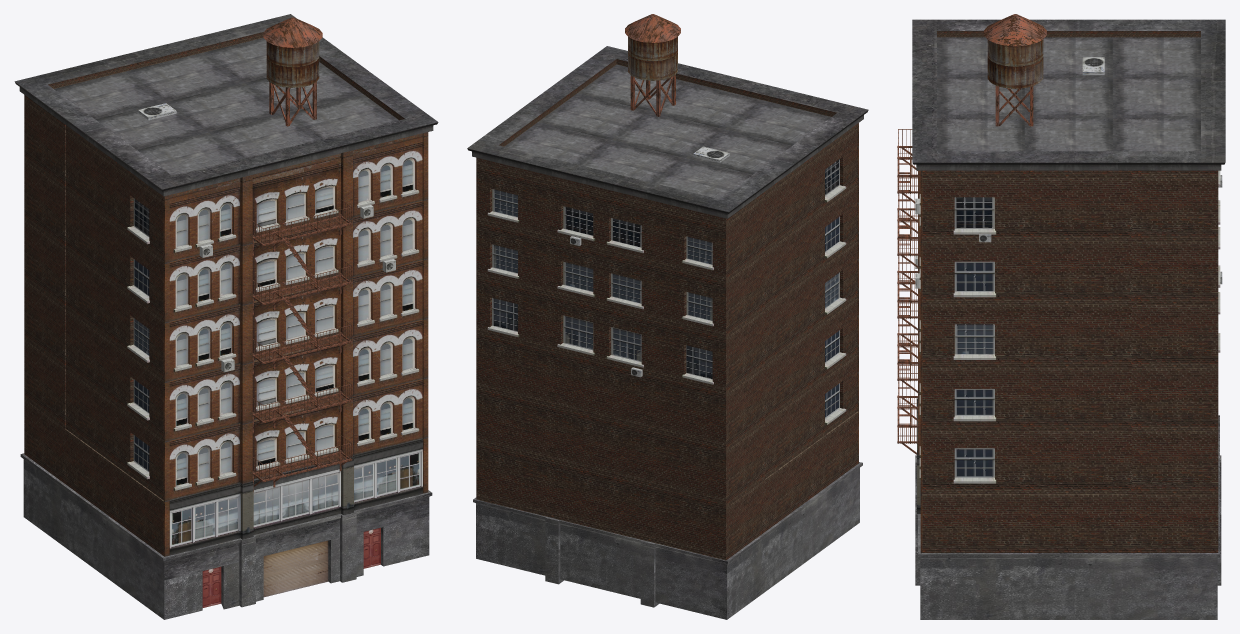
The model's file is Building A.fbx.
3 views of the same model, side by side, from view 1: azimuth 30°, elevation 25°; view 2: azimuth 150°, elevation 25°; view 3: azimuth 270°, elevation 25° (orthographic). The views are drawn at different scales.
Visible parts, largest first — view 1: K_Building_A01_00; view 2: K_Building_A01_00; view 3: K_Building_A01_00.
Boxes of the visible parts, <box> form: K_Building_A01_00: <box>14,14,438,619</box>; K_Building_A01_00: <box>467,14,868,619</box>; K_Building_A01_00: <box>897,14,1225,619</box>.
Size of the model in its own units: 1676 by 3075 by 1626.
11 materials, 11 textured.
